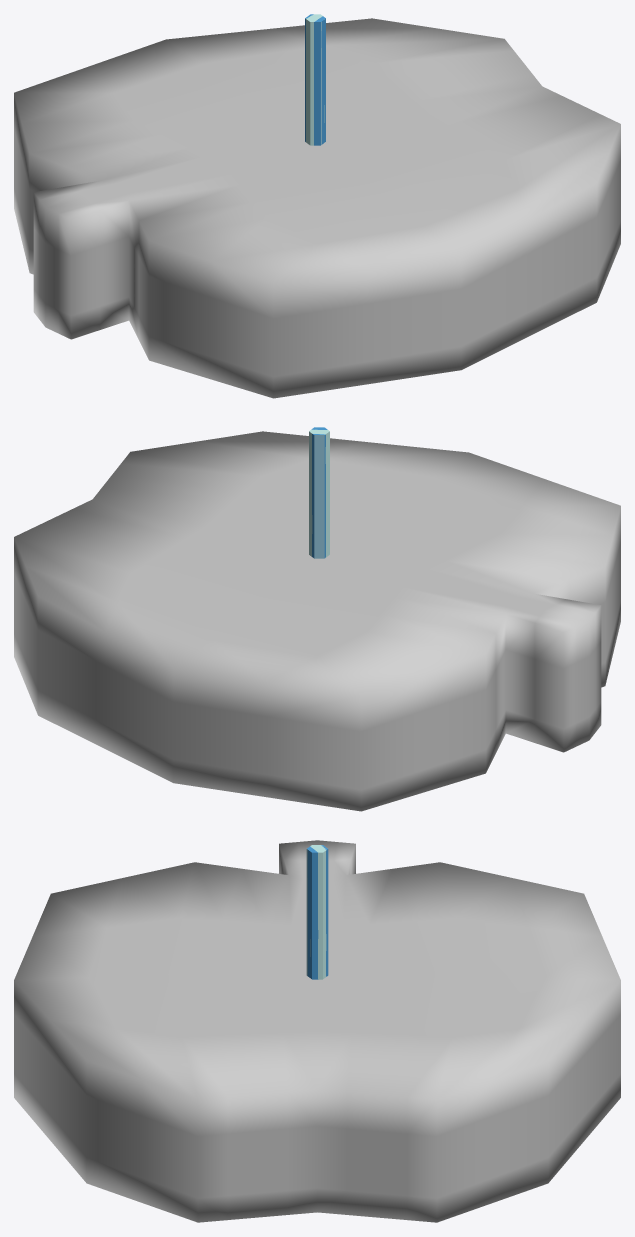
Rendered from Cake.fbx.
The picture shows the model from 3 angles, top to bottom: view 1: azimuth 30°, elevation 25°; view 2: azimuth 150°, elevation 25°; view 3: azimuth 270°, elevation 25°; orthographic projection. The views are drawn at different scales.
Visible parts, largest first — view 1: Cake, Candle; view 2: Cake, Candle; view 3: Cake, Candle.
Boxes of the visible parts, x1,y1,x2,y2 form: Cake: (14, 18, 620, 398); Candle: (305, 14, 325, 145); Cake: (14, 431, 620, 811); Candle: (309, 427, 329, 558); Cake: (14, 840, 620, 1222); Candle: (306, 845, 328, 979).
Size of the model in its own units: 188 by 84.55 by 186.
